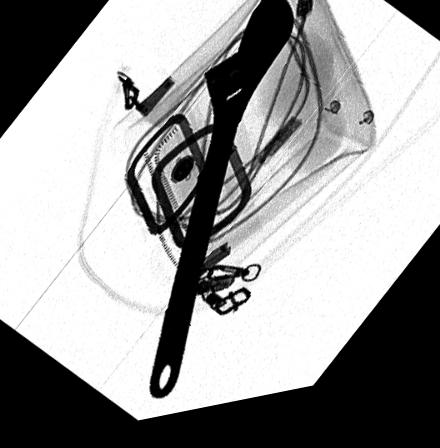Wrench: (203, 78, 377, 314)
